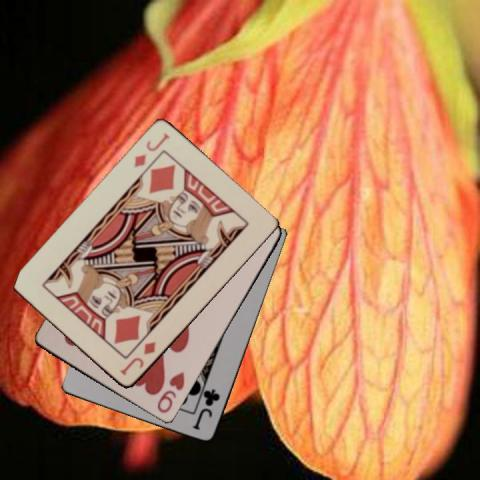9h: (154, 369, 186, 415)
Jc: (191, 386, 222, 432)
Jd: (131, 130, 172, 169), (117, 339, 157, 377)
